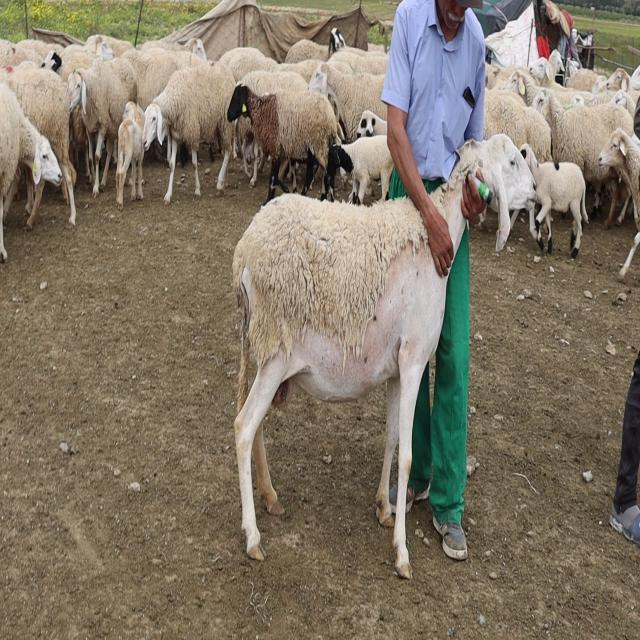Score_2: (233, 195, 449, 578)
